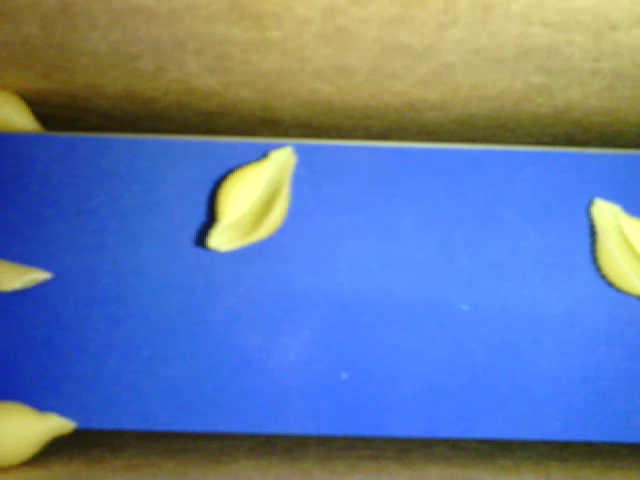penne: (1, 259, 56, 295)
shell: (206, 145, 296, 255), (1, 400, 77, 468), (590, 196, 639, 296)
